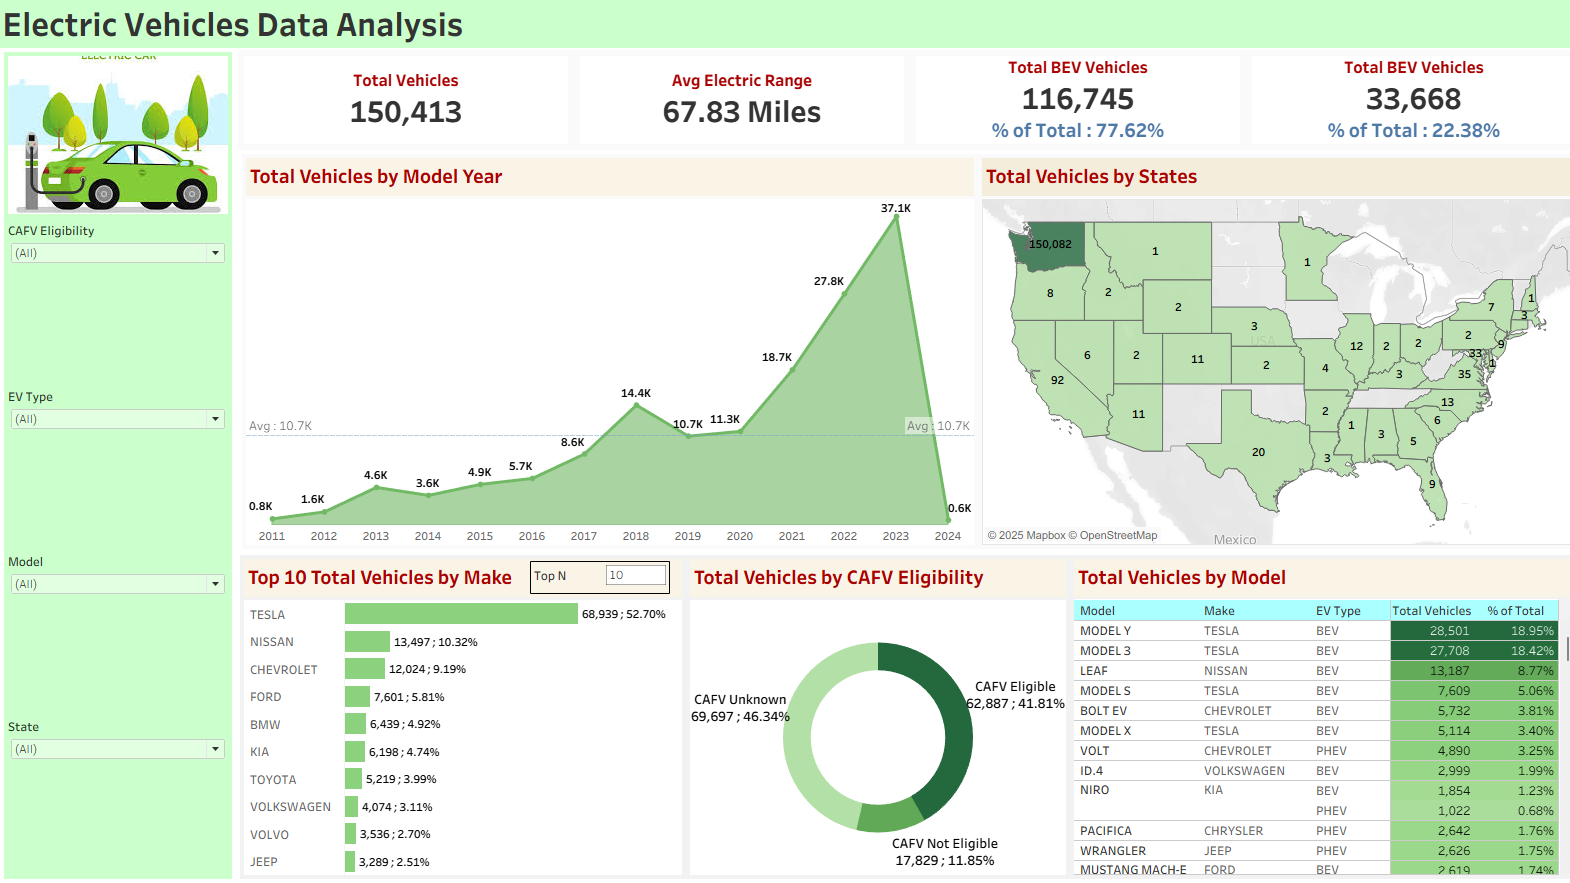

The page's visual inventory and layout, read from the dashboard file:
{"tool":"tableau","page":{"name":"Electric Vehicles Data Analysis","canvas":[1600,900],"ordinal":0},"visuals":[{"type":"title","box":[8,8,1584,53]},{"type":"worksheet","title":"Total Vehicle","mark":"Automatic","box":[248,61,336,100]},{"type":"worksheet","title":"Avg Electric Range","mark":"Automatic","box":[584,61,336,100]},{"type":"worksheet","title":"Total BEV Vehicles","mark":"Automatic","box":[920,61,336,100]},{"type":"worksheet","title":"Total PHEV Vehicles","mark":"Automatic","box":[1256,61,336,100]},{"type":"image","param":"C:/Users/USER/Downloads/EV car.jpg","box":[14,63,228,166]},{"type":"worksheet","title":"Total Vehicles by Model Year","mark":"Area","rows":["Calculation_357191787418402816","Calculation_357191787418402816"],"cols":["Model Year"],"box":[252,165,736,395]},{"type":"worksheet","title":"Total Vehicles by States","mark":"Multipolygon","box":[988,165,600,395]},{"type":"filter","title":"Total Vehicles by Model Year","param":"[federated.1dcoi3s1hztzg4139tdjy0n4ncu6].[none:Clean Alternative Fuel Vehicle (C","box":[14,229,228,166]},{"type":"filter","title":"Total Vehicles by Model Year","param":"[federated.1dcoi3s1hztzg4139tdjy0n4ncu6].[none:Electric Vehicle Type:nk]","box":[14,395,228,165]},{"type":"filter","title":"Total Vehicles by Model Year","param":"[federated.1dcoi3s1hztzg4139tdjy0n4ncu6].[none:Model:nk]","box":[14,560,228,165]},{"type":"worksheet","title":"Top 10 Vehicles by Make","mark":"Automatic","rows":["Make"],"cols":["Calculation_357191787418402816"],"box":[250,566,446,324]},{"type":"worksheet","title":"Total Vehicles by CAFV Eligibility","mark":"Pie","rows":["Calculation_426716106999341057","Calculation_426716106999341057"],"box":[696,566,384,324]},{"type":"worksheet","title":"Total Vehicles by Model","mark":"Square","rows":["Model","Make","Electric Vehicle Type"],"box":[1080,566,510,324]},{"type":"parameter","param":"[Parameters].[Parameter 1]","box":[540,572,140,33]},{"type":"filter","title":"Total Vehicles by Model Year","param":"[federated.1dcoi3s1hztzg4139tdjy0n4ncu6].[none:State:nk]","box":[14,725,228,165]}]}

Visuals, with their boxes in screenshot pixels (x1, y1, x2, y2), scaled from the page's 1600x900 canvas onto the 1570x883 screenshot:
title: 8, 8, 1562, 60
"Total Vehicle" worksheet: 243, 60, 573, 158
"Avg Electric Range" worksheet: 573, 60, 903, 158
"Total BEV Vehicles" worksheet: 903, 60, 1232, 158
"Total PHEV Vehicles" worksheet: 1232, 60, 1562, 158
image: 14, 62, 237, 225
"Total Vehicles by Model Year" worksheet (Area marks): 247, 162, 969, 549
"Total Vehicles by States" worksheet (Multipolygon marks): 969, 162, 1558, 549
"Total Vehicles by Model Year" filter: 14, 225, 237, 388
"Total Vehicles by Model Year" filter: 14, 388, 237, 549
"Total Vehicles by Model Year" filter: 14, 549, 237, 711
"Top 10 Vehicles by Make" worksheet: 245, 555, 683, 873
"Total Vehicles by CAFV Eligibility" worksheet (Pie marks): 683, 555, 1060, 873
"Total Vehicles by Model" worksheet (Square marks): 1060, 555, 1560, 873
parameter: 530, 561, 667, 594
"Total Vehicles by Model Year" filter: 14, 711, 237, 873
